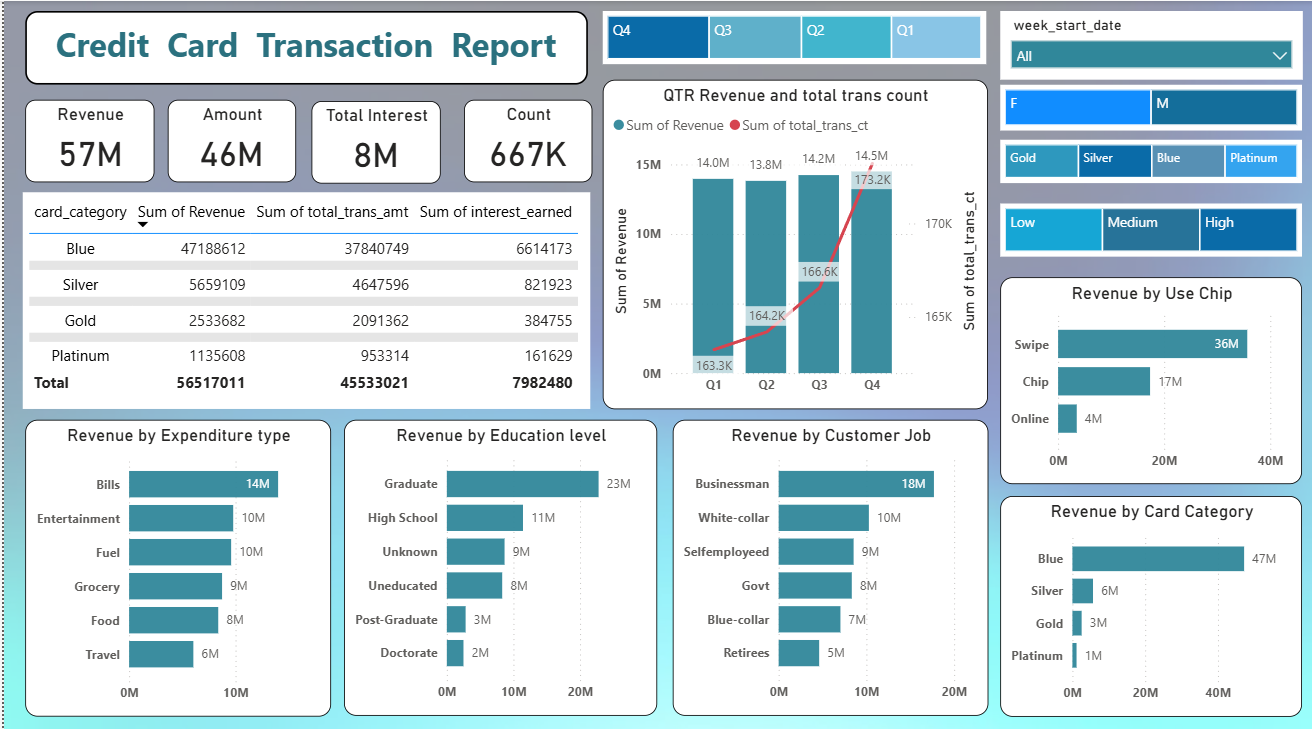

What the dashboard file says about the page in this screenshot:
{"tool":"powerbi","page":{"name":"cc transactions","canvas":[1280,720],"ordinal":1},"visuals":[{"type":"textbox","box":[20.5,9.7,550.1,72.4],"z":0},{"type":"lineStackedColumnComboChart","title":"QTR Revenue and total trans count","fields":{"Category":["public cc_detail.qtr"],"Y":["Sum(public cc_detail.Revenue)"],"Y2":["Sum(public cc_detail.total_trans_ct)"]},"box":[586.3,77.2,376.4,322.1],"z":1000},{"type":"barChart","title":"Revenue by Expenditure type","fields":{"Y":["Sum(public cc_detail.Revenue)"],"Category":["public cc_detail.exp_type"]},"box":[20.5,410.2,299.2,290.8],"z":2000},{"type":"barChart","title":"Revenue by Education level","fields":{"Y":["Sum(public cc_detail.Revenue)"],"Category":["public cust_detail.education_level"]},"box":[333,410.2,306.4,289.5],"z":3000},{"type":"barChart","title":"Revenue by Customer Job","fields":{"Y":["Sum(public cc_detail.Revenue)"],"Category":["public cust_detail.customer_job"]},"box":[653.9,410.2,308.8,289.5],"z":4000},{"type":"barChart","title":"Revenue by Card Category","fields":{"Y":["Sum(public cc_detail.Revenue)"],"Category":["public cc_detail.card_category"]},"box":[974.8,483.8,295.6,216],"z":5000},{"type":"barChart","title":"Revenue by Use Chip","fields":{"Y":["Sum(public cc_detail.Revenue)"],"Category":["public cc_detail.use_chip"]},"box":[974.8,270.2,295.6,202.7],"z":6000},{"type":"tableEx","fields":{"Values":["public cc_detail.card_category","Sum(public cc_detail.Revenue)","Sum(public cc_detail.total_trans_amt)","Sum(public cc_detail.interest_earned)"]},"box":[18.1,187,555,212.3],"z":7000},{"type":"card","title":"Revenue","fields":{"Values":["Sum(public cc_detail.Revenue)"]},"box":[20.5,96.5,126.7,80.8],"z":8000},{"type":"card","title":"Amount","fields":{"Values":["Sum(public cc_detail.total_trans_amt)"]},"box":[160.5,96.5,125.5,80.8],"z":9000},{"type":"card","title":"Total Interest ","fields":{"Values":["Sum(public cc_detail.interest_earned)"]},"box":[300.4,97.7,126.7,80.8],"z":10000},{"type":"card","title":"Count","fields":{"Values":["Sum(public cc_detail.total_trans_ct)"]},"box":[450,96.5,125.5,80.8],"z":11000},{"type":"slicer","fields":{"Values":["public cc_detail.week_start_date"]},"box":[974.6,9.8,295.9,67.3],"z":12000},{"type":"treemap","fields":{"Group":["public cc_detail.qtr"],"Values":["Avg(public cc_detail.client_num)"]},"box":[586.3,9.7,375.2,51.9],"z":13000},{"type":"treemap","fields":{"Group":["public cust_detail.gender"],"Values":["Avg(public cc_detail.client_num)"]},"box":[974.8,82,295.6,44.6],"z":14000},{"type":"treemap","fields":{"Group":["public cc_detail.card_category"],"Values":["Avg(public cc_detail.client_num)"]},"box":[974.8,136.3,295.6,42.2],"z":15000},{"type":"treemap","fields":{"Group":["public cust_detail.IncomeGroup"],"Values":["Avg(public cc_detail.client_num)"]},"box":[974.8,197.9,295.6,51.9],"z":16000}]}

Visuals, with their boxes in screenshot pixels (x1, y1, x2, y2), scaled from the page's 1280x720 canvas onto the 1312x729 screenshot:
textbox: left=21, top=10, right=585, bottom=83
"QTR Revenue and total trans count" lineStackedColumnComboChart: left=601, top=78, right=987, bottom=404
"Revenue by Expenditure type" barChart: left=21, top=415, right=328, bottom=710
"Revenue by Education level" barChart: left=341, top=415, right=655, bottom=708
"Revenue by Customer Job" barChart: left=670, top=415, right=987, bottom=708
"Revenue by Card Category" barChart: left=999, top=490, right=1302, bottom=709
"Revenue by Use Chip" barChart: left=999, top=274, right=1302, bottom=479
tableEx - public cc_detail.card_category x Sum(public cc_detail.Revenue): left=19, top=189, right=587, bottom=404
"Revenue" card: left=21, top=98, right=151, bottom=180
"Amount" card: left=165, top=98, right=293, bottom=180
"Total Interest " card: left=308, top=99, right=438, bottom=181
"Count" card: left=461, top=98, right=590, bottom=180
slicer - public cc_detail.week_start_date: left=999, top=10, right=1302, bottom=78
treemap - public cc_detail.qtr x Avg(public cc_detail.client_num): left=601, top=10, right=986, bottom=62
treemap - public cust_detail.gender x Avg(public cc_detail.client_num): left=999, top=83, right=1302, bottom=128
treemap - public cc_detail.card_category x Avg(public cc_detail.client_num): left=999, top=138, right=1302, bottom=181
treemap - public cust_detail.IncomeGroup x Avg(public cc_detail.client_num): left=999, top=200, right=1302, bottom=253
